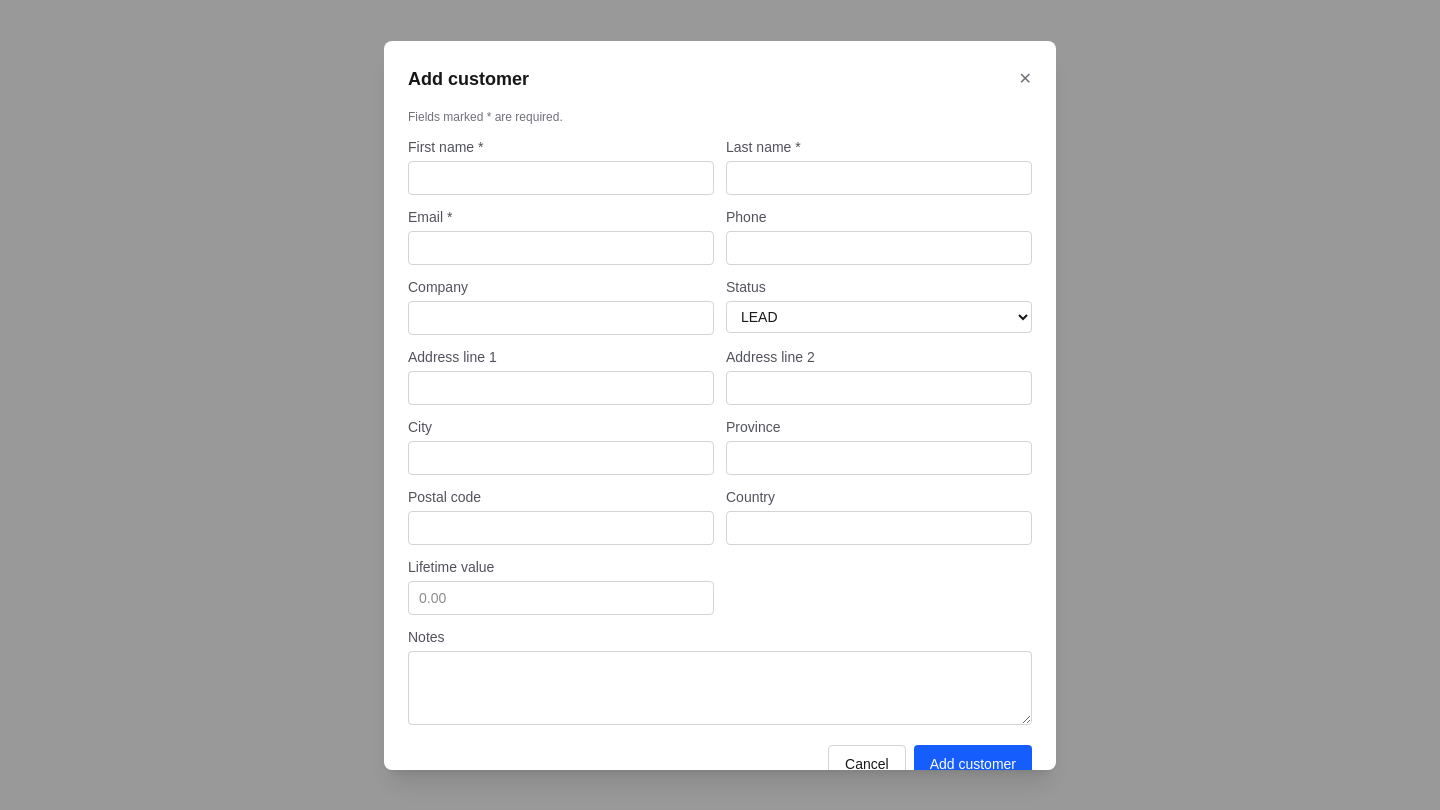
it: CustomerFormModal › clears a field error as soon as the user starts typing in it
This screenshot has width=1440, height=810.
Click the button "Add customer" at (973, 764), box top-left (914, 744), bottom-right (1032, 782)
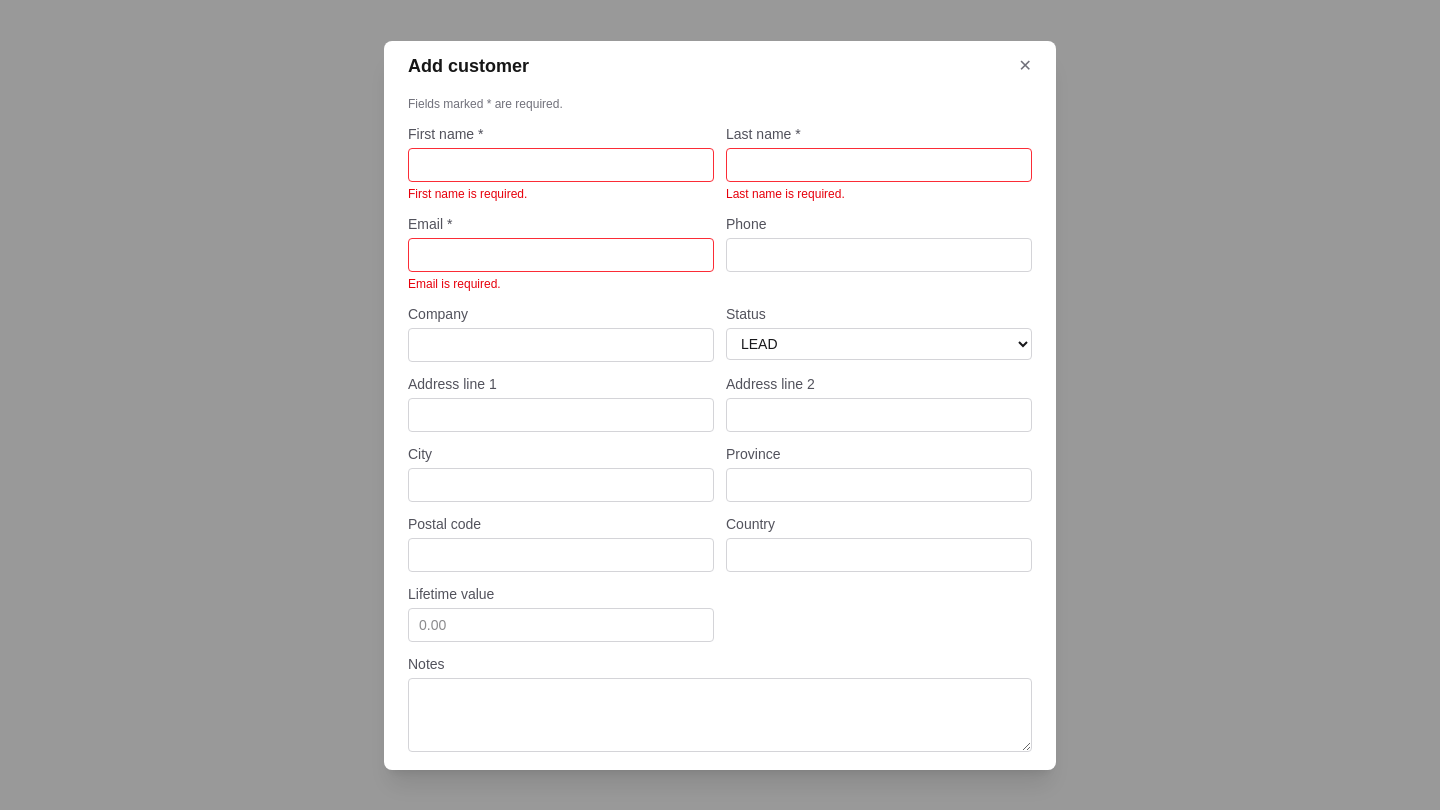
Now the text "First name is required." is shown, box top-left (408, 186), bottom-right (527, 200)
Type "G" into the field labelled "First name *" at (561, 164), box top-left (408, 148), bottom-right (714, 182)
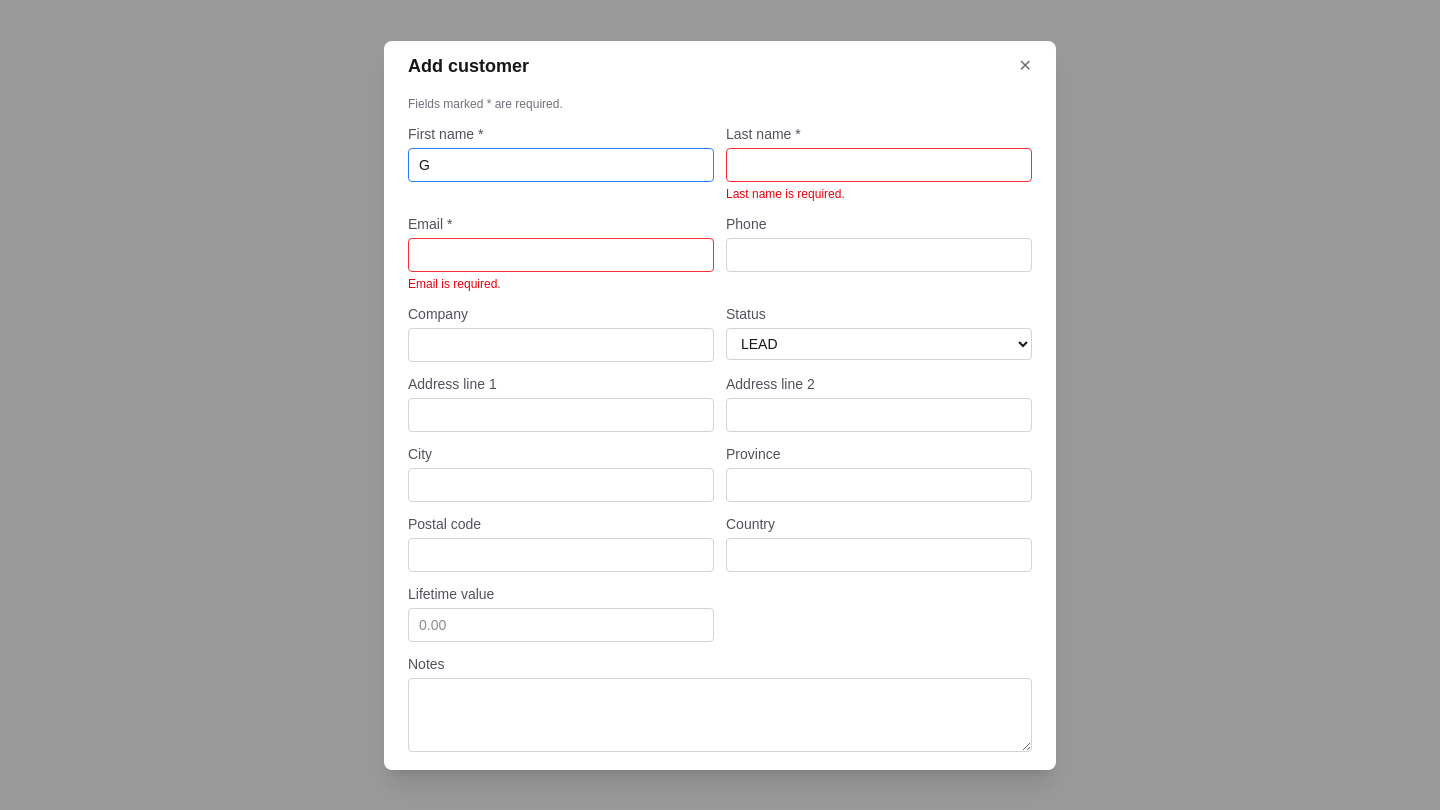
Now the text "First name is required." is gone
